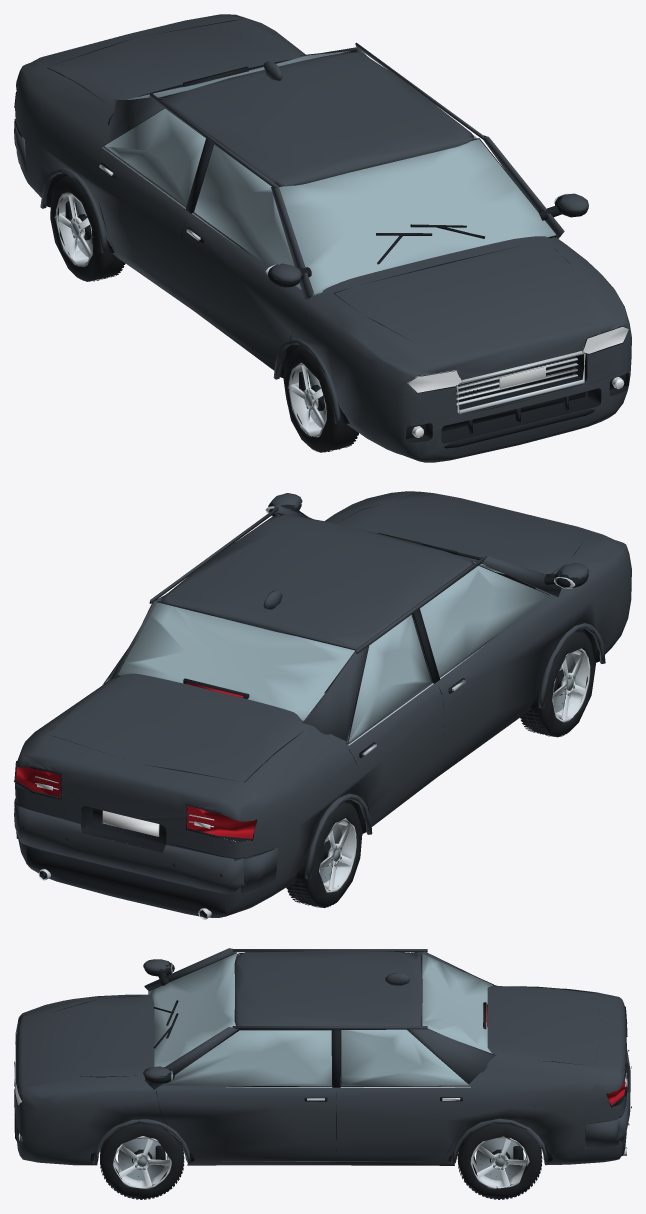
The model's file is sedan-lod1.glb.
3 renders of one model, top to bottom at view 1: azimuth 30°, elevation 25°; view 2: azimuth 150°, elevation 25°; view 3: azimuth 270°, elevation 25°, orthographic. The views are drawn at different scales.
Visible parts, largest first — view 1: body_paint, body_glass.001, body_black.001, wheelpart_rubber.001 (×2), body_chrome, wheelpart_chrome (×2), body_clearlens; view 2: body_paint, body_glass.001, body_black.001, wheelpart_rubber.001 (×2), wheelpart_chrome (×2), body_redlens, body_chrome, body_white; view 3: body_paint, body_glass.001, wheelpart_rubber.001 (×2), body_black.001, wheelpart_chrome (×2), wheelpart_steel.001 (×2), body_chrome.
Boxes of the visible parts, x1,y1,x2,y2 form: body_paint: (14,14,631,462); body_glass.001: (104,51,555,295); body_black.001: (14,19,629,448); wheelpart_rubber.001 (×2): (50,175,358,452); body_chrome: (99,147,621,436); wheelpart_chrome (×2): (55,192,326,437); body_clearlens: (407,326,628,437); body_paint: (14,491,631,917); body_glass.001: (105,514,549,744); body_black.001: (14,502,599,917); wheelpart_rubber.001 (×2): (286,630,595,907); wheelpart_chrome (×2): (319,648,590,892); body_redlens: (16,682,256,838); body_chrome: (35,506,575,919); body_white: (102,810,159,836); body_paint: (15,948,630,1165); body_glass.001: (148,953,493,1085); wheelpart_rubber.001 (×2): (100,1123,542,1199); body_black.001: (14,952,631,1165); wheelpart_chrome (×2): (113,1136,529,1188); wheelpart_steel.001 (×2): (118,1138,524,1180); body_chrome: (15,962,626,1155).
Size of the model in its own units: 2.19 by 1.55 by 4.87.
